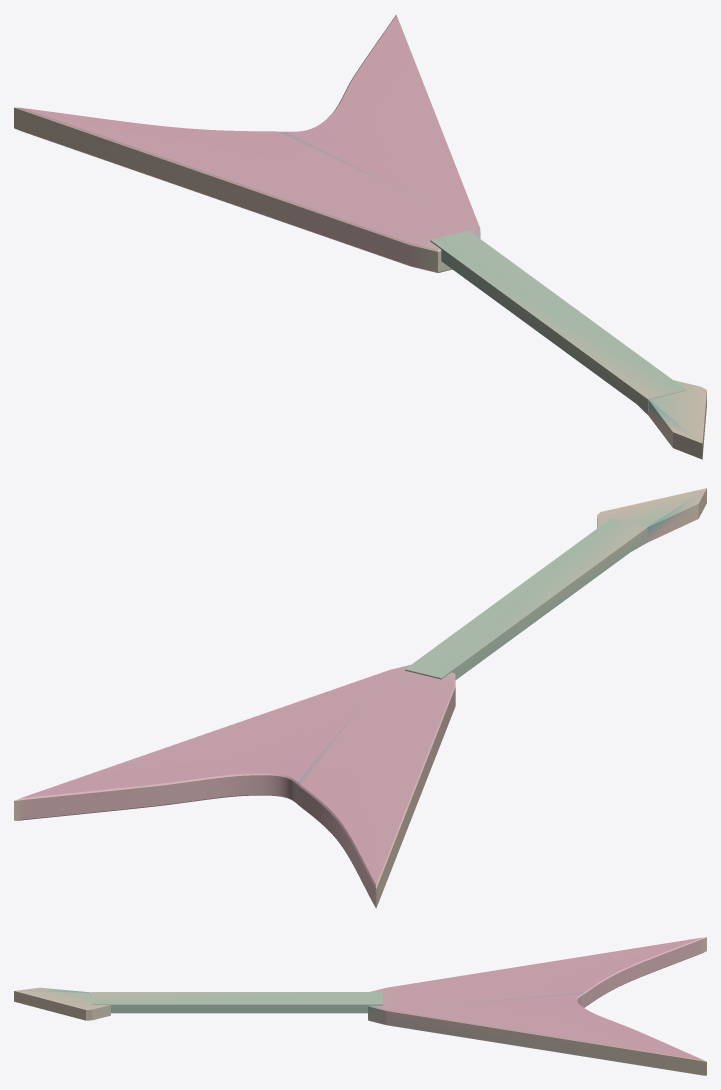
3 renders of one model, top to bottom at view 1: azimuth 30°, elevation 25°; view 2: azimuth 150°, elevation 25°; view 3: azimuth 270°, elevation 25°, orthographic. The views are drawn at different scales.
Parts seen in each view (by area): view 1: body, neck, headstock; view 2: body, neck, headstock; view 3: body, neck, headstock.
Boxes of the visible parts, box(x1,y1,x2,y2) form: body: box(14, 14, 480, 272); neck: box(430, 230, 686, 411); headstock: box(638, 380, 706, 459); body: box(14, 665, 455, 908); neck: box(405, 518, 647, 679); headstock: box(597, 488, 706, 551); body: box(368, 937, 706, 1075); neck: box(92, 992, 382, 1013); headstock: box(14, 987, 110, 1020).
Size of the model in its own units: 0.4259 by 0.0265 by 1.
